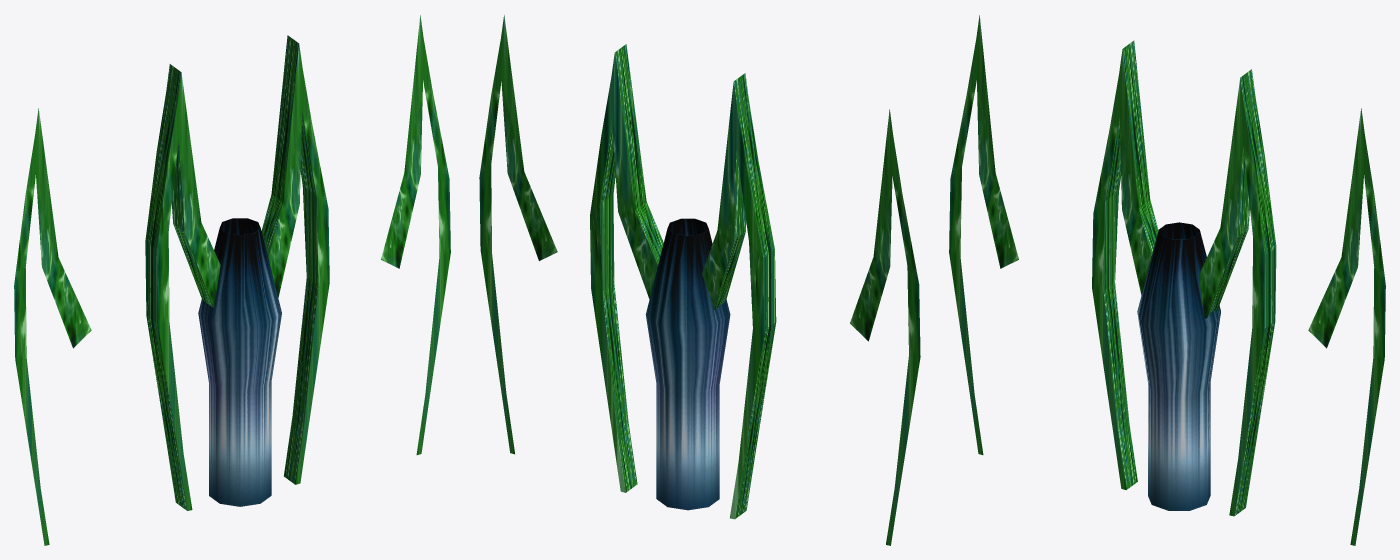
File: kongju.FBX
3 views of the same model, side by side, from view 1: azimuth 30°, elevation 25°; view 2: azimuth 150°, elevation 25°; view 3: azimuth 330°, elevation 25° (orthographic).
Parts seen in each view (by area): view 1: Cylinder001, Plane001, Plane003, Plane005, Plane004; view 2: Cylinder001, Plane001, Plane003, Plane004, Plane005; view 3: Cylinder001, Plane001, Plane003, Plane004, Plane005.
Part boxes in pixels (<box>): Cylinder001: <box>198,218,281,506</box>; Plane001: <box>261,35,329,484</box>; Plane003: <box>145,64,220,510</box>; Plane005: <box>14,108,91,545</box>; Plane004: <box>381,15,450,454</box>; Cylinder001: <box>645,218,730,510</box>; Plane001: <box>590,44,663,492</box>; Plane003: <box>702,73,776,519</box>; Plane004: <box>479,15,557,454</box>; Plane005: <box>850,109,920,545</box>; Cylinder001: <box>1137,222,1220,510</box>; Plane001: <box>1198,69,1276,516</box>; Plane003: <box>1092,40,1158,489</box>; Plane004: <box>1308,108,1385,545</box>; Plane005: <box>949,15,1018,454</box>.
Size of the model in its own units: 2.15 by 2.06 by 0.3587.
